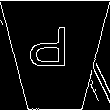P_S: (34, 30, 76, 80)
